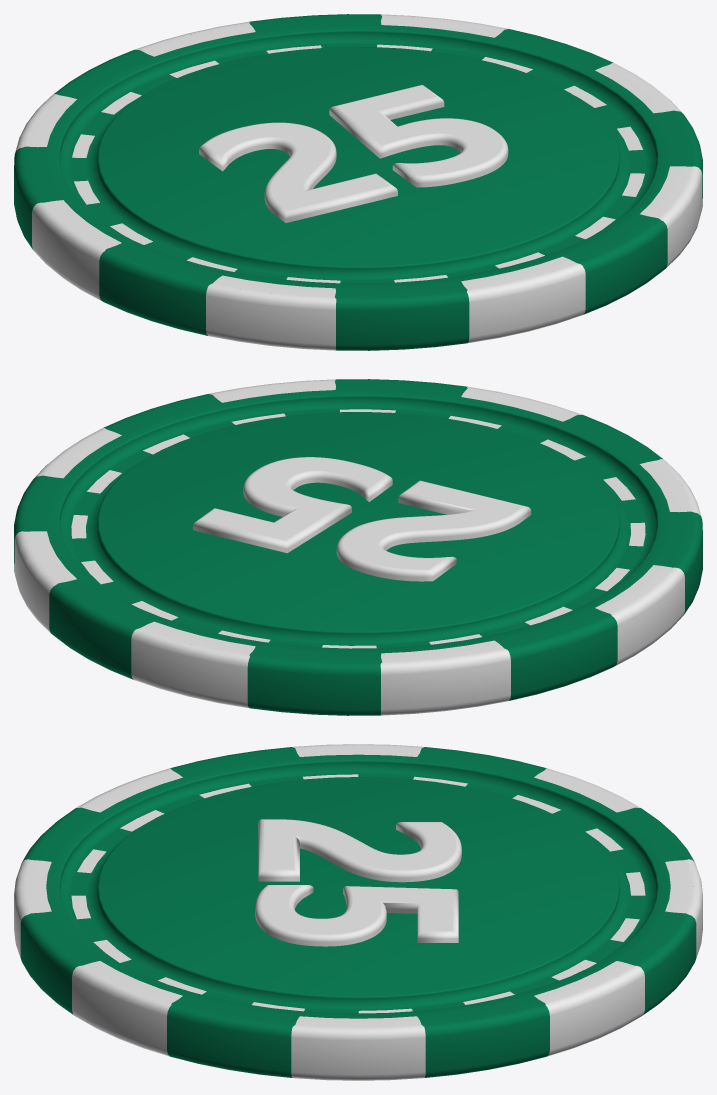
3 views of the same model, one above another, from view 1: azimuth 30°, elevation 25°; view 2: azimuth 150°, elevation 25°; view 3: azimuth 270°, elevation 25° (orthographic).
Parts seen in each view (by area): view 1: Text.002; view 2: Text.002; view 3: Text.002.
Part boxes in pixels (bbox=[...]): Text.002: bbox=[14, 14, 702, 350]; Text.002: bbox=[14, 379, 702, 715]; Text.002: bbox=[14, 744, 702, 1080].
Size of the model in its own units: 8.02 by 0.9115 by 8.02.
